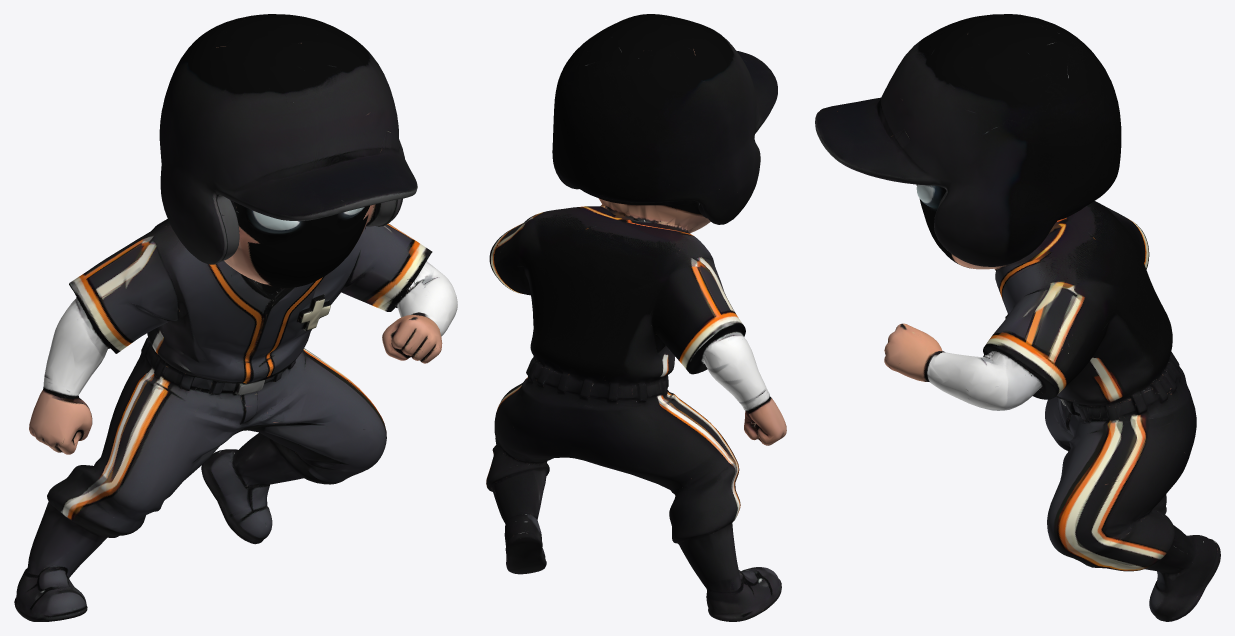
Rendered from sd_runner.glb.
The picture shows the model from 3 angles, left to right: view 1: azimuth 30°, elevation 25°; view 2: azimuth 150°, elevation 25°; view 3: azimuth 270°, elevation 25°; orthographic projection. The views are drawn at different scales.
Parts seen in each view (by area): view 1: Mesh_0; view 2: Mesh_0; view 3: Mesh_0.
Part boxes in pixels (x1=…): Mesh_0: x1=14, y1=14, x2=457, y2=621; Mesh_0: x1=486, y1=14, x2=786, y2=621; Mesh_0: x1=815, y1=14, x2=1220, y2=621.
Bounding box in the file's own units: 1.25 × 1.91 × 1.25.
1 material, 1 textured.
